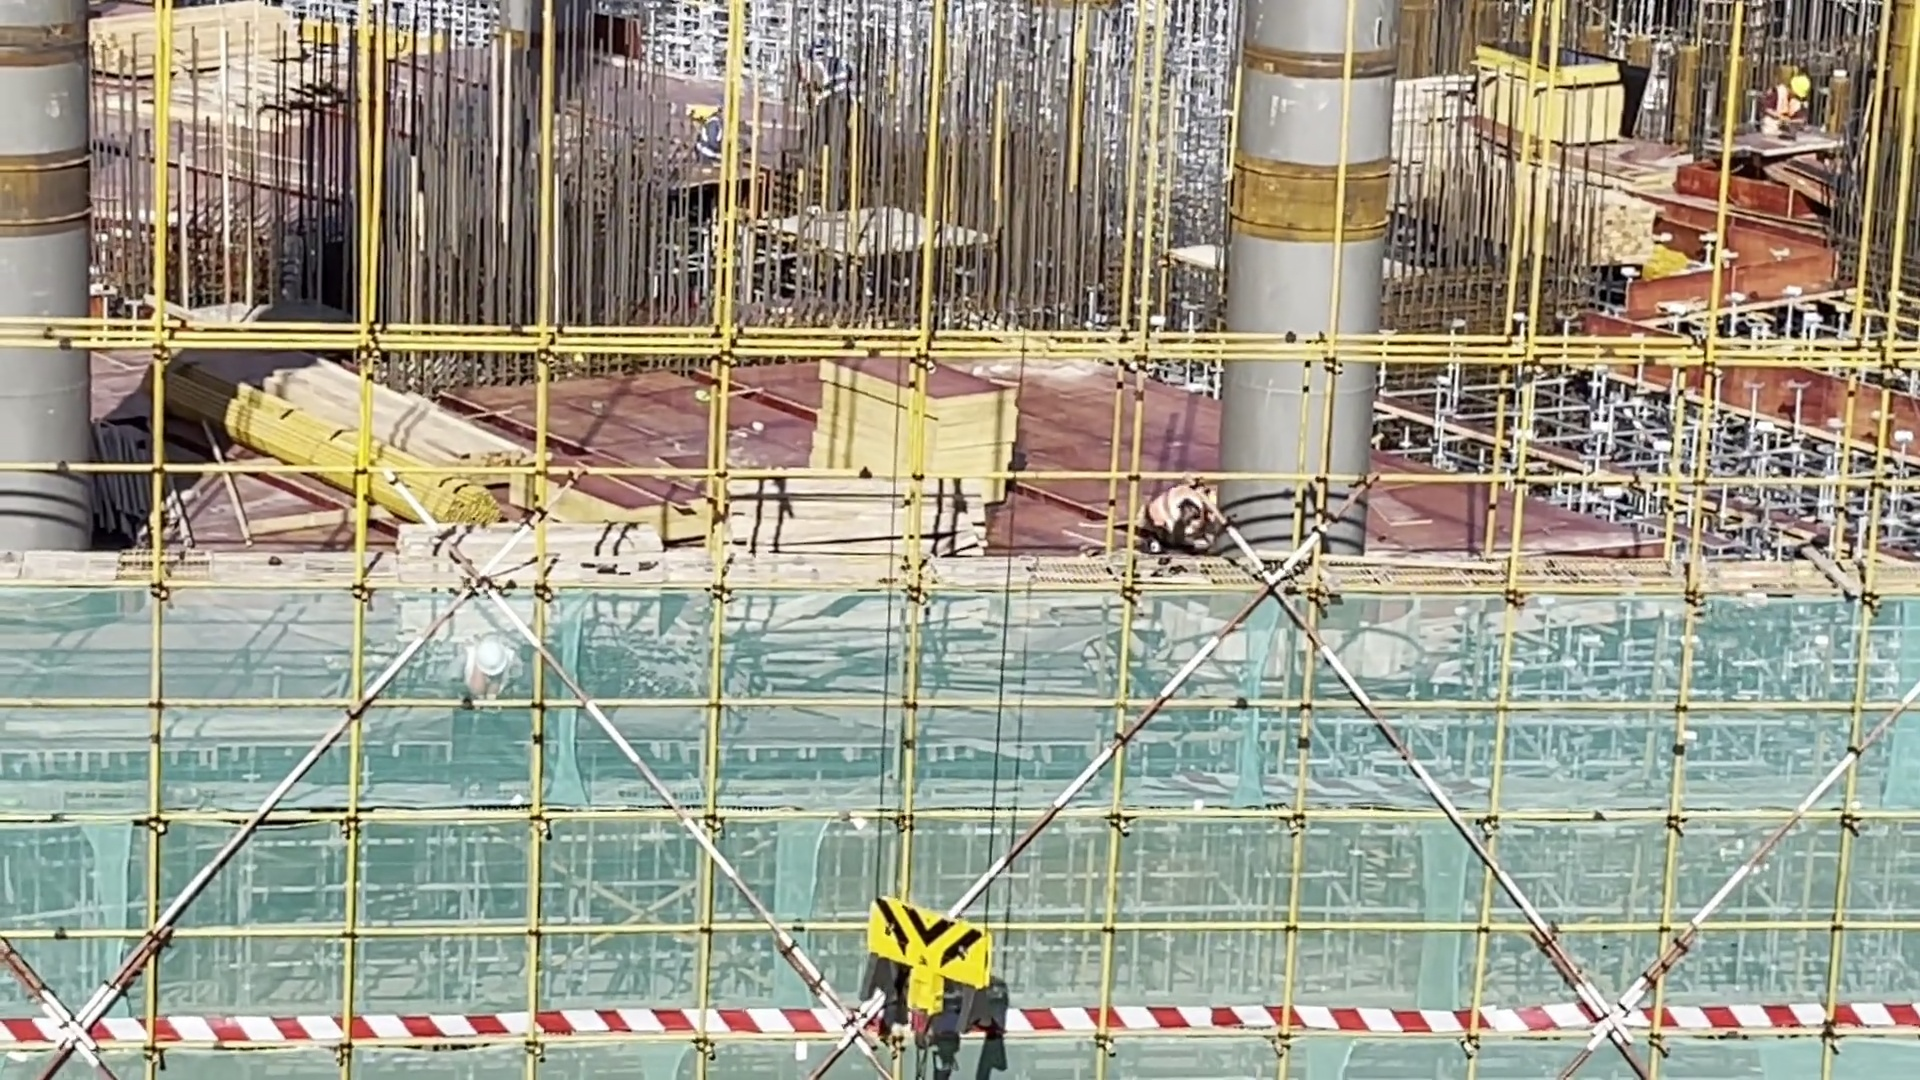board: (811, 361, 1015, 477), (1475, 24, 1623, 143)
hook: (863, 896, 994, 1020)
person: (1138, 476, 1221, 561), (1759, 64, 1821, 138)
wood: (235, 349, 535, 538), (92, 6, 296, 80), (1602, 204, 1654, 258)
